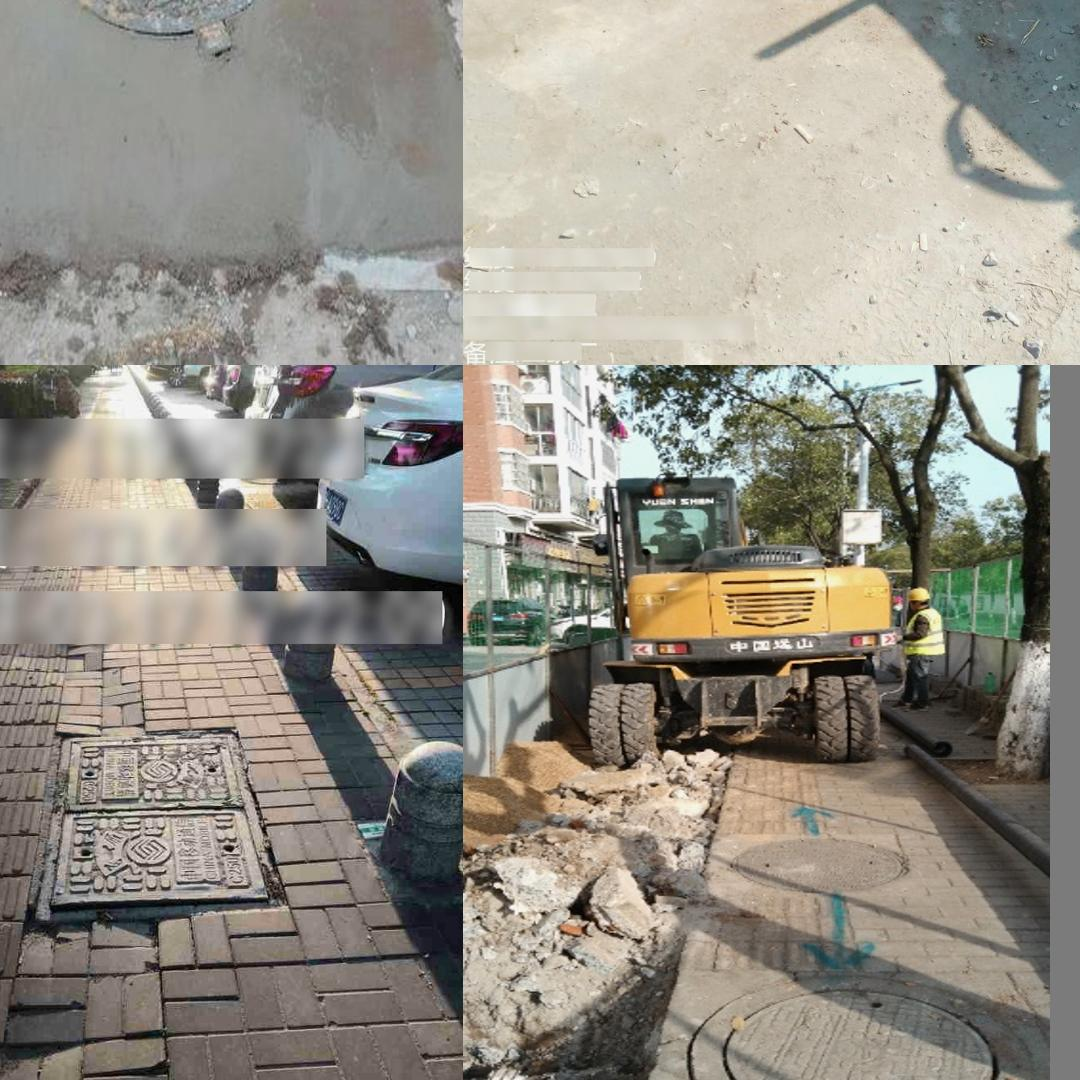good: (0, 0, 444, 295), (33, 734, 282, 918), (690, 975, 1034, 1080), (736, 835, 914, 894)
